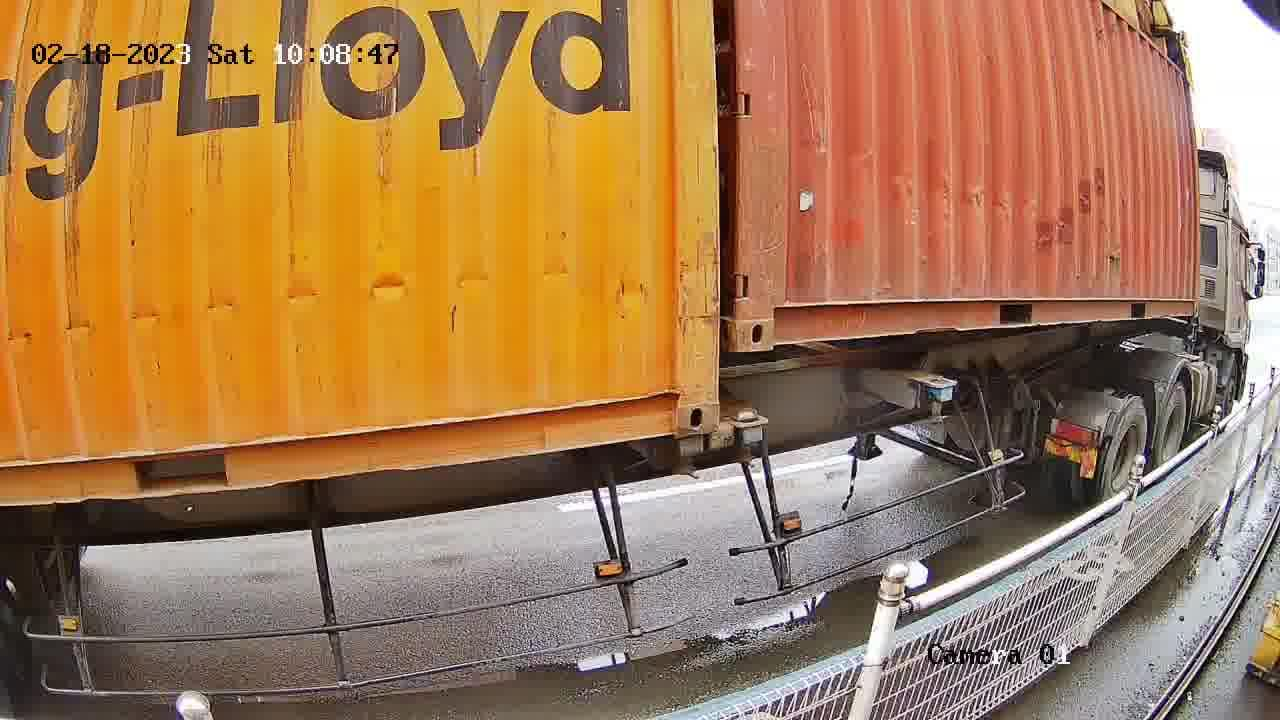Cone: (731, 408, 766, 471), (670, 436, 710, 482)
Hole_L: (735, 282, 801, 352)
Hole_R: (642, 366, 718, 438)
Tire: (1102, 401, 1147, 506), (1157, 387, 1187, 470)
